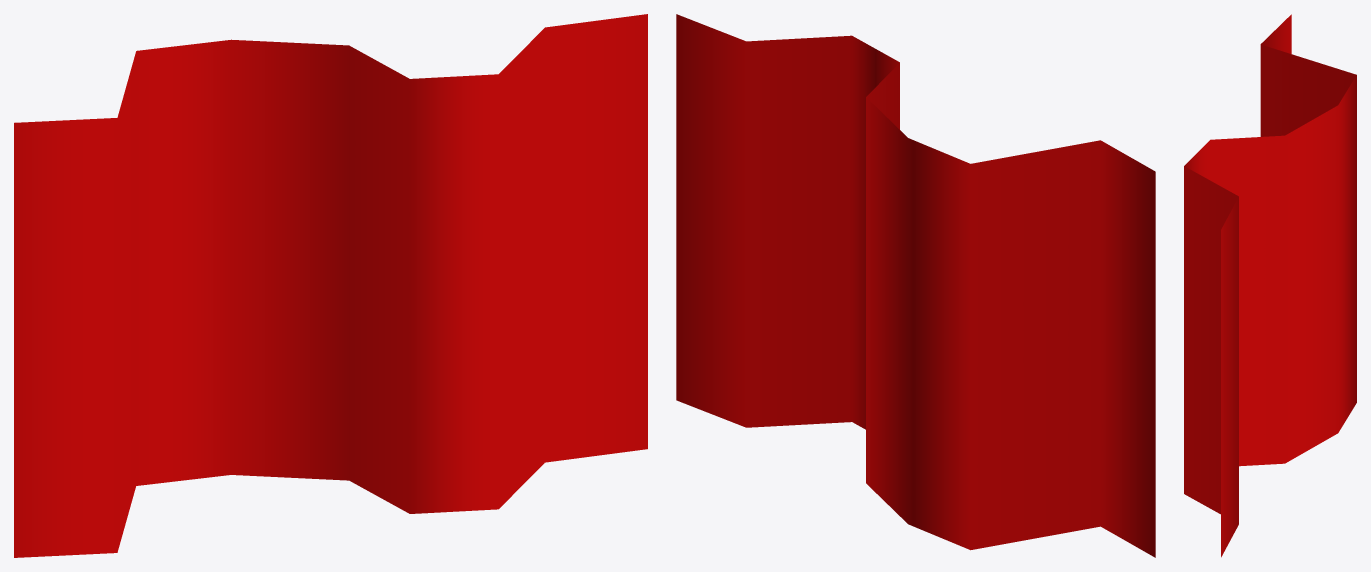
File: SM_CurtainWrap.FBX
The picture shows the model from 3 angles, left to right: view 1: azimuth 30°, elevation 25°; view 2: azimuth 150°, elevation 25°; view 3: azimuth 270°, elevation 25°; orthographic projection. The views are drawn at different scales.
Parts seen in each view (by area): view 1: SM_CurtainWrap; view 2: SM_CurtainWrap; view 3: SM_CurtainWrap.
Boxes of the visible parts, x1,y1,x2,y2 form: SM_CurtainWrap: (14,14,647,557); SM_CurtainWrap: (676,14,1155,557); SM_CurtainWrap: (1184,14,1356,557).
Size of the model in its own units: 24.18 by 17.13 by 8.17.
